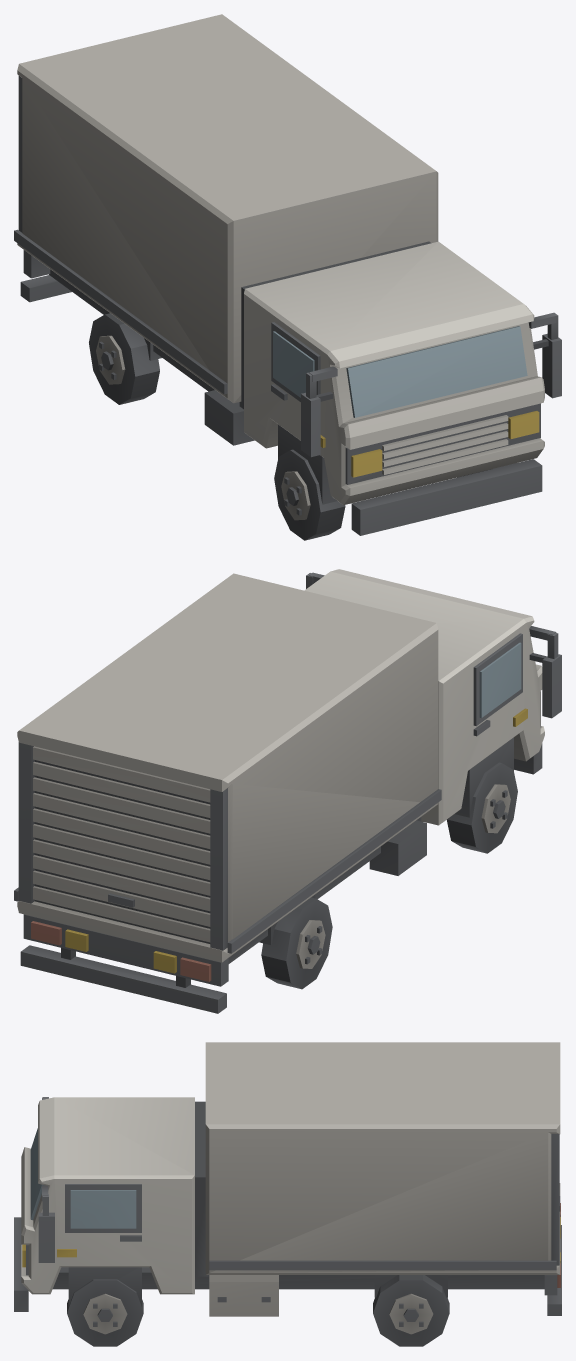
The model's file is deltruck.glb.
3 views of the same model, one above another, from view 1: azimuth 30°, elevation 25°; view 2: azimuth 150°, elevation 25°; view 3: azimuth 270°, elevation 25° (orthographic). The views are drawn at different scales.
Parts seen in each view (by area): view 1: deltruck; view 2: deltruck; view 3: deltruck.
Part boxes in pixels (x1=…): deltruck: x1=14, y1=14, x2=561, y2=540; deltruck: x1=14, y1=569, x2=561, y2=1013; deltruck: x1=14, y1=1042, x2=561, y2=1346.
Size of the model in its own units: 2.62 by 2.7 by 6.
